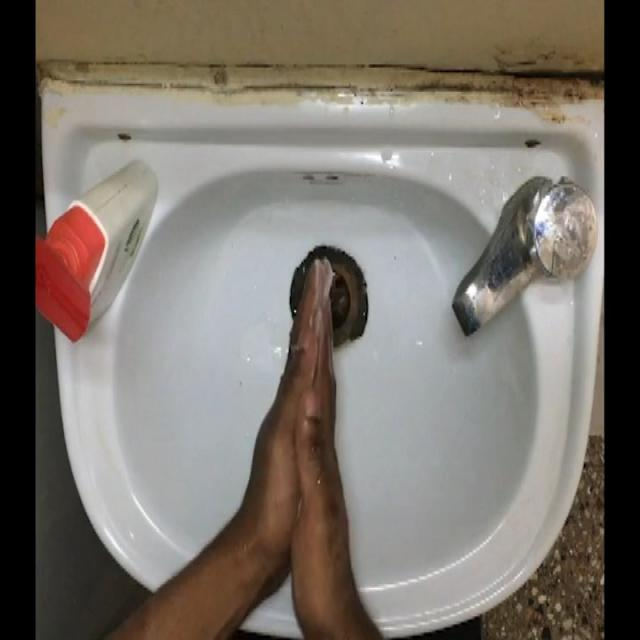step_1: (237, 237, 374, 575)
